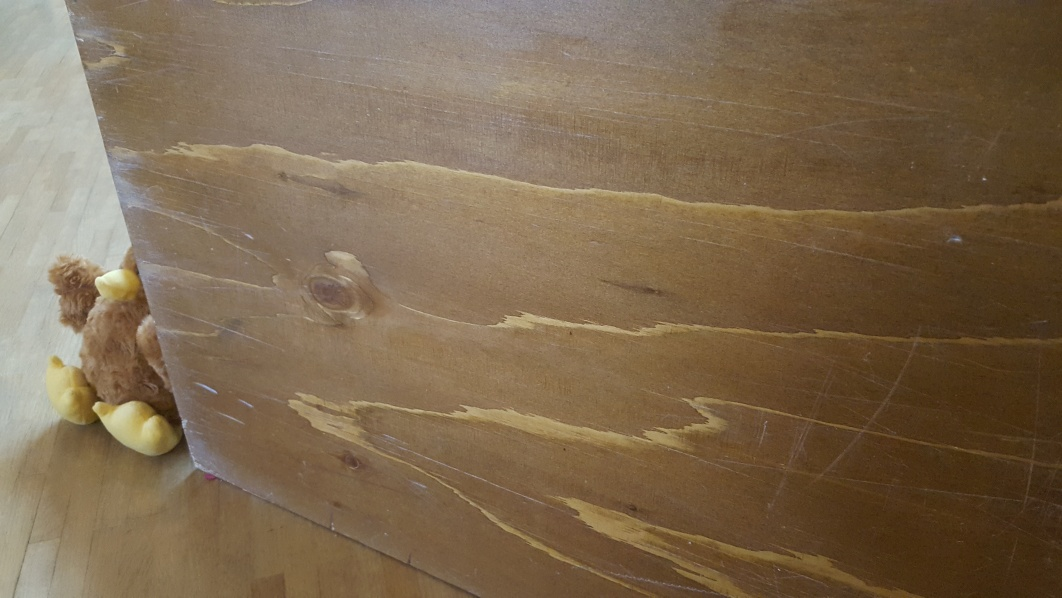chicken: (45, 243, 180, 466)
